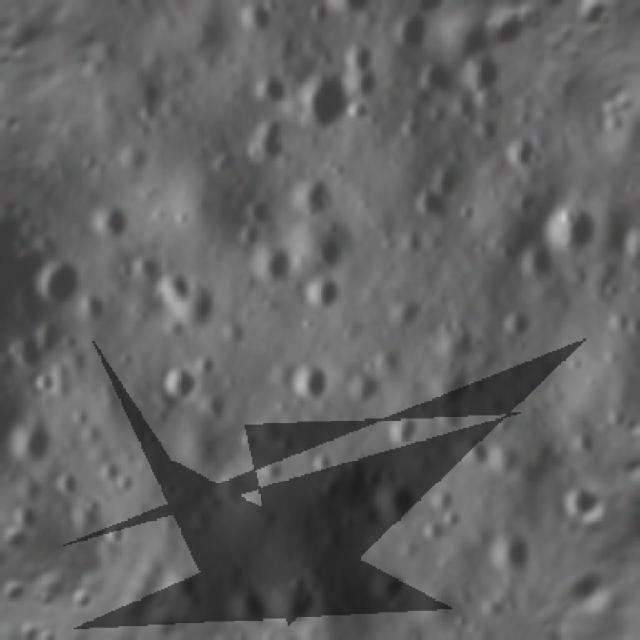crater: (394, 152, 469, 226), (292, 67, 359, 135), (494, 124, 566, 187), (408, 48, 468, 103), (0, 405, 54, 466), (366, 472, 422, 530), (29, 250, 85, 308), (479, 520, 539, 574), (541, 199, 596, 255), (217, 578, 272, 634), (153, 356, 209, 409), (361, 557, 413, 609), (288, 171, 342, 218), (304, 266, 353, 317), (284, 356, 334, 404), (297, 444, 348, 490), (153, 264, 201, 310), (84, 198, 134, 242), (342, 357, 386, 401), (308, 0, 381, 26), (517, 239, 560, 281), (498, 298, 539, 342), (456, 430, 495, 473), (384, 412, 428, 448), (258, 247, 297, 287), (390, 12, 428, 53), (553, 487, 589, 530), (233, 188, 273, 225), (5, 494, 44, 531), (48, 461, 83, 501), (232, 220, 270, 254), (24, 369, 59, 405), (421, 518, 454, 554), (238, 1, 274, 32), (96, 515, 130, 547), (424, 476, 456, 509), (58, 326, 88, 360), (623, 221, 640, 259), (438, 512, 462, 532), (271, 629, 303, 640), (332, 632, 374, 640), (372, 632, 412, 640)
